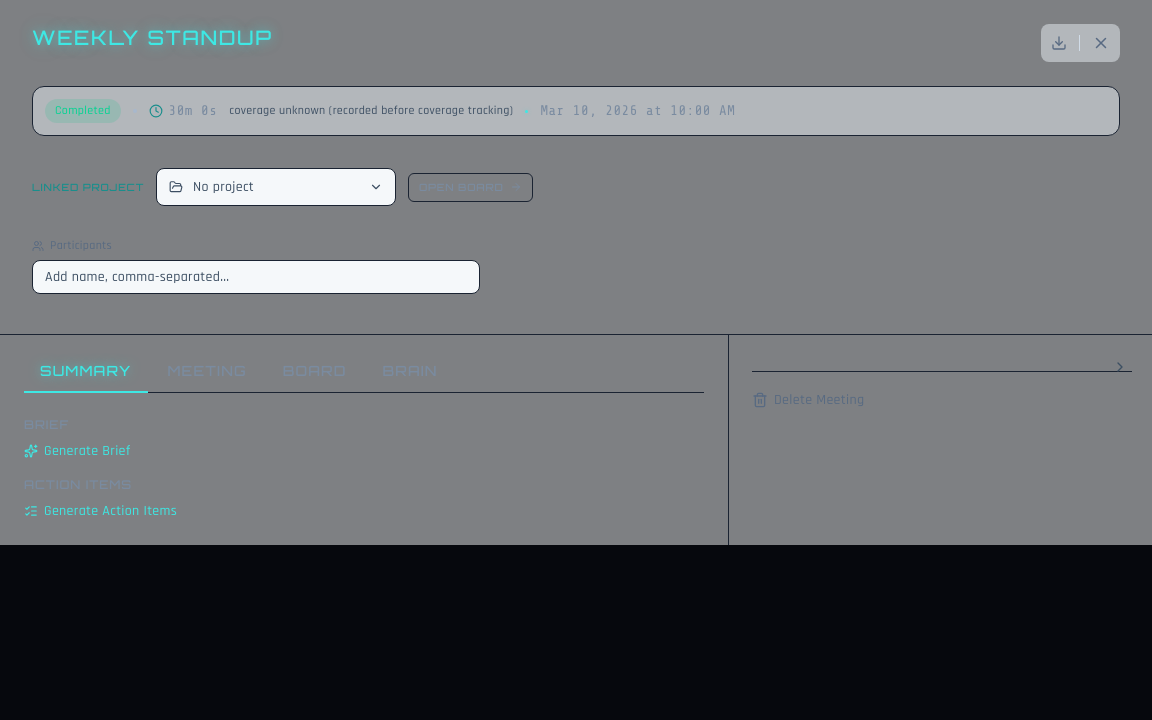
Scenario: SessionWorkspace — routed session page › mounts the interactive EmbeddedBoard (not the empty state) when the session has a project
This screenshot has width=1152, height=720.
Click the tab "Board".
click(315, 372)  # box [267,351,362,393]
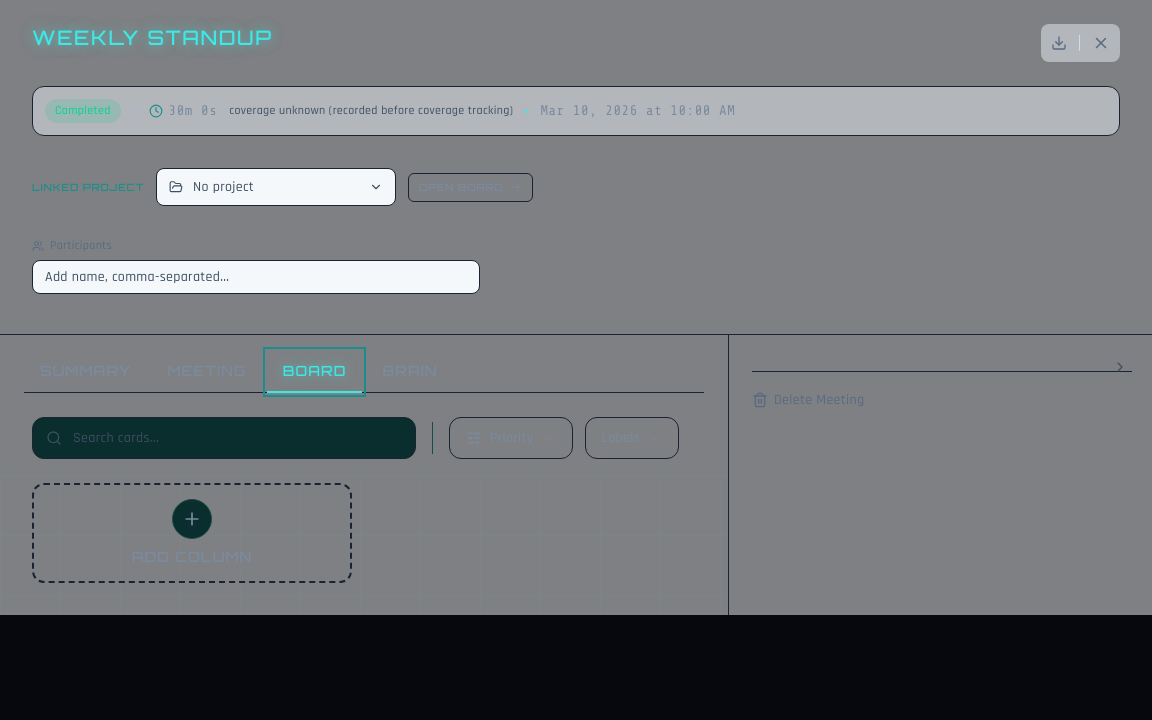
Result: the element with test id "embedded-board" is shown at [0,393,728,615]
